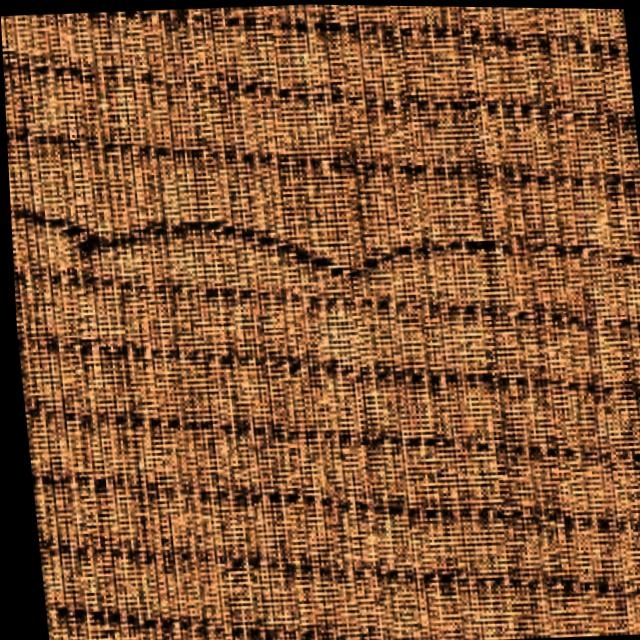Stitch: (9, 143, 512, 335)
